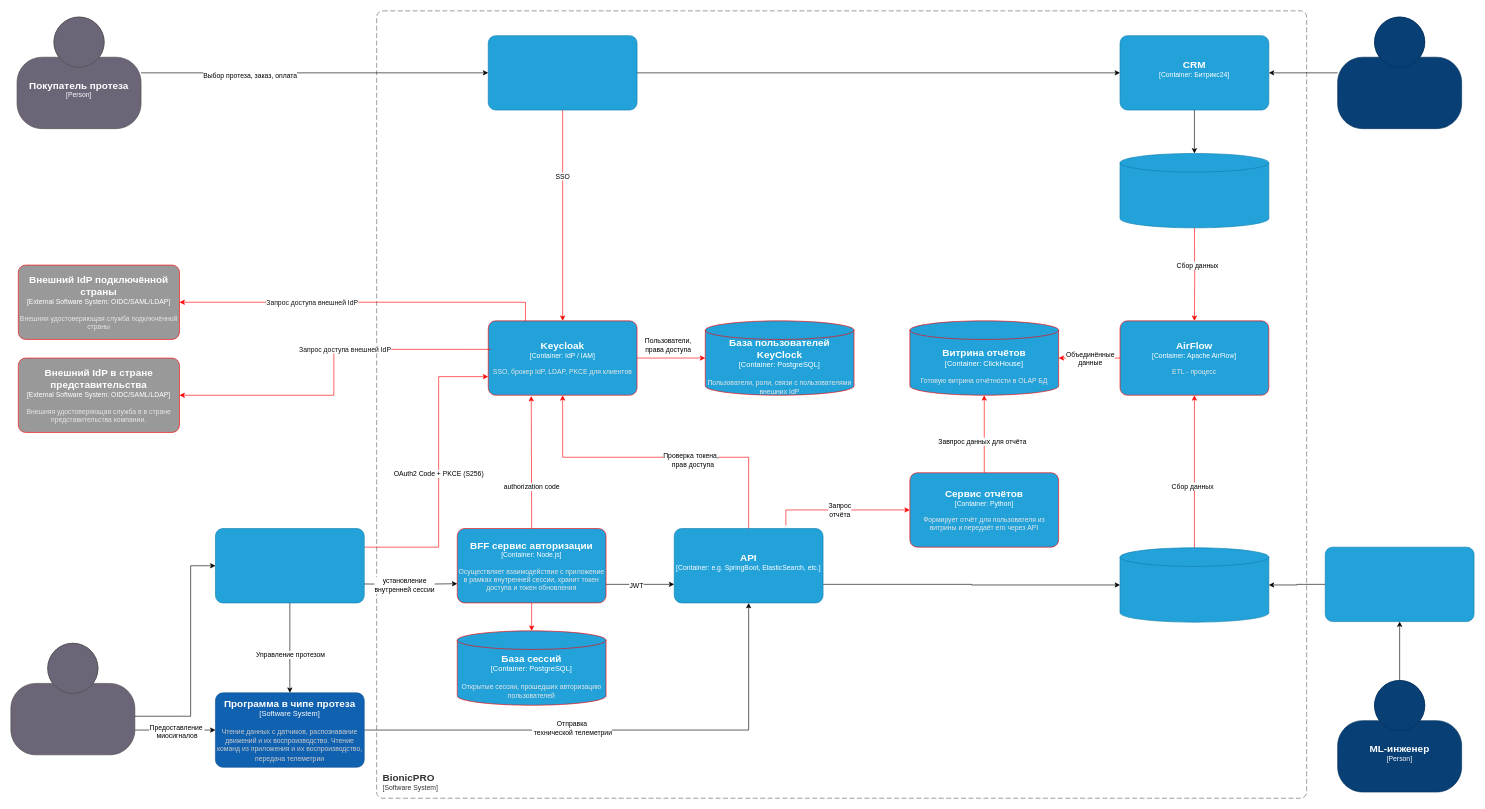
This 1485x809 diagram has some shape labels left out. Here are the shapes that lost their labels. From the top down, the centre of each, then its label:
At [562,72]: "Интернет-магазин [Container: Битрикс24]".
At [1399,72]: "Оператор производства [Person]".
At [1194,190]: "CRM DB [Container: e.g. Oracle Database 12]".
At [289,565]: "Приложение для донастройки протеза [Container: iOD, Android]".
At [1194,584]: "База данных [Container: PostgreSQL]".
At [1399,584]: "cli tool [Container: e.g. SpringBoot, ElasticSearch, etc.]".
At [72,699]: "Пилот протеза [Person] С этого человека считываются данные".
